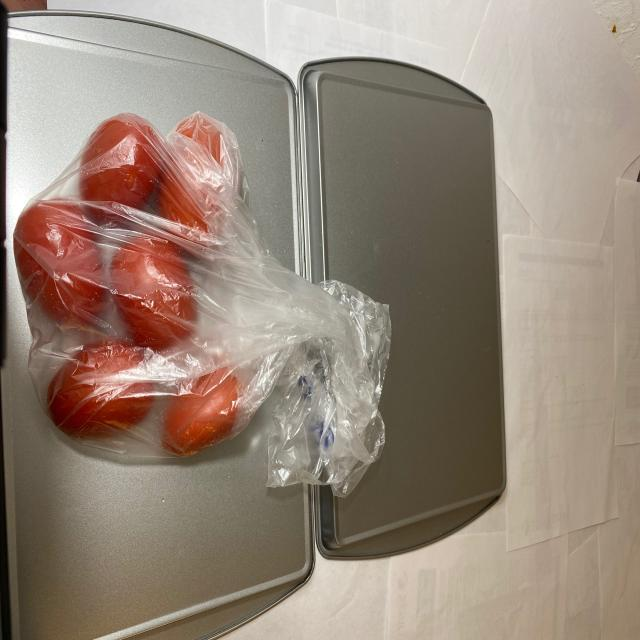tomato: (16, 111, 257, 468)
